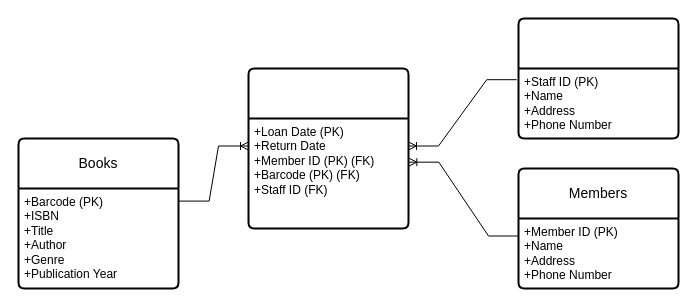
Some shapes in this 696 by 306 pixel diagram are drawn without their labels. Each missing label, with the box of its shape:
Librarians: (517, 17, 679, 139)
Loans: (247, 67, 409, 229)
